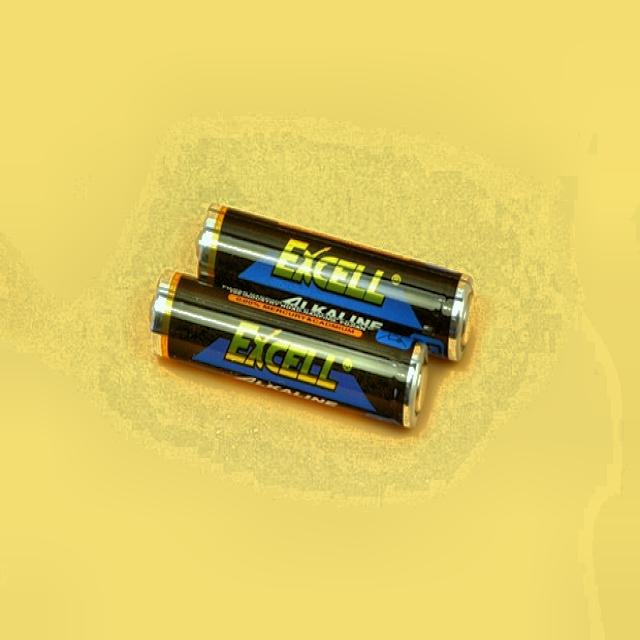Non-Valuable Waste - Batteries: (151, 272, 428, 427), (199, 205, 471, 360)
